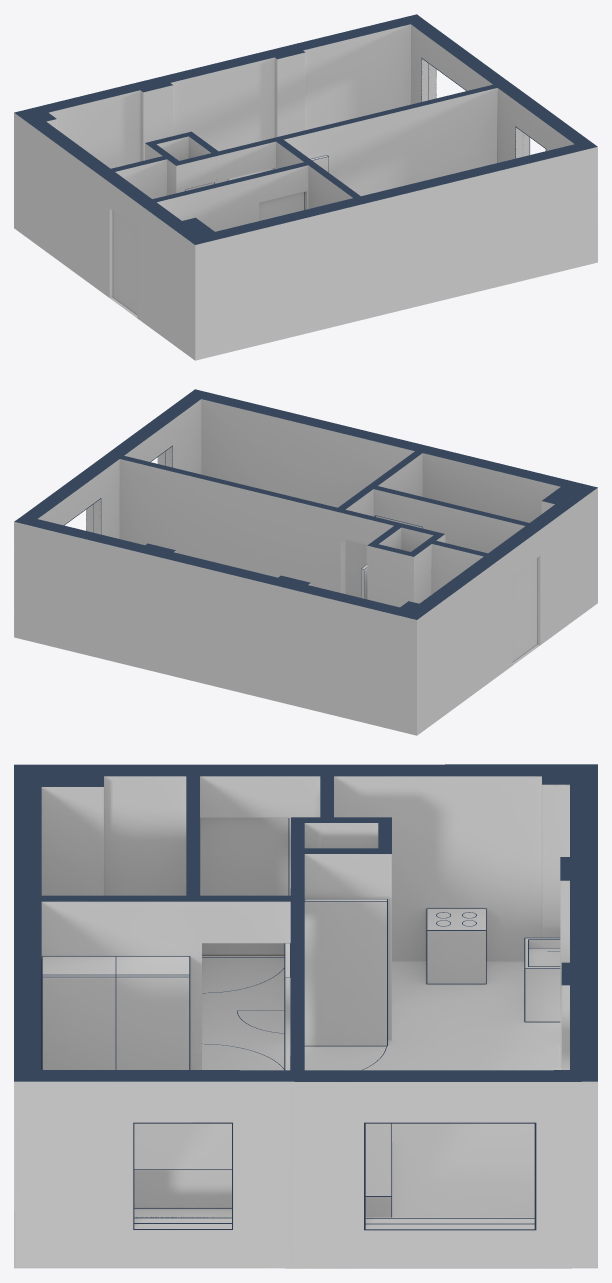
File: Whole_Baked_Mesh.glb
The picture shows the model from 3 angles, top to bottom: view 1: azimuth 30°, elevation 25°; view 2: azimuth 150°, elevation 25°; view 3: azimuth 270°, elevation 25°; orthographic projection. The views are drawn at different scales.
Parts seen in each view (by area): view 1: Base, Accent; view 2: Base, Accent; view 3: Base, Accent.
Part boxes in pixels (x1,y1,x2,y2): Base: [14, 24, 597, 360]; Accent: [14, 14, 597, 244]; Base: [14, 391, 597, 735]; Accent: [14, 389, 597, 619]; Base: [14, 776, 597, 1268]; Accent: [14, 764, 597, 1230].
Bounding box in the file's own units: 5.14 × 1.41 × 4.
2 materials, 1 textured.
